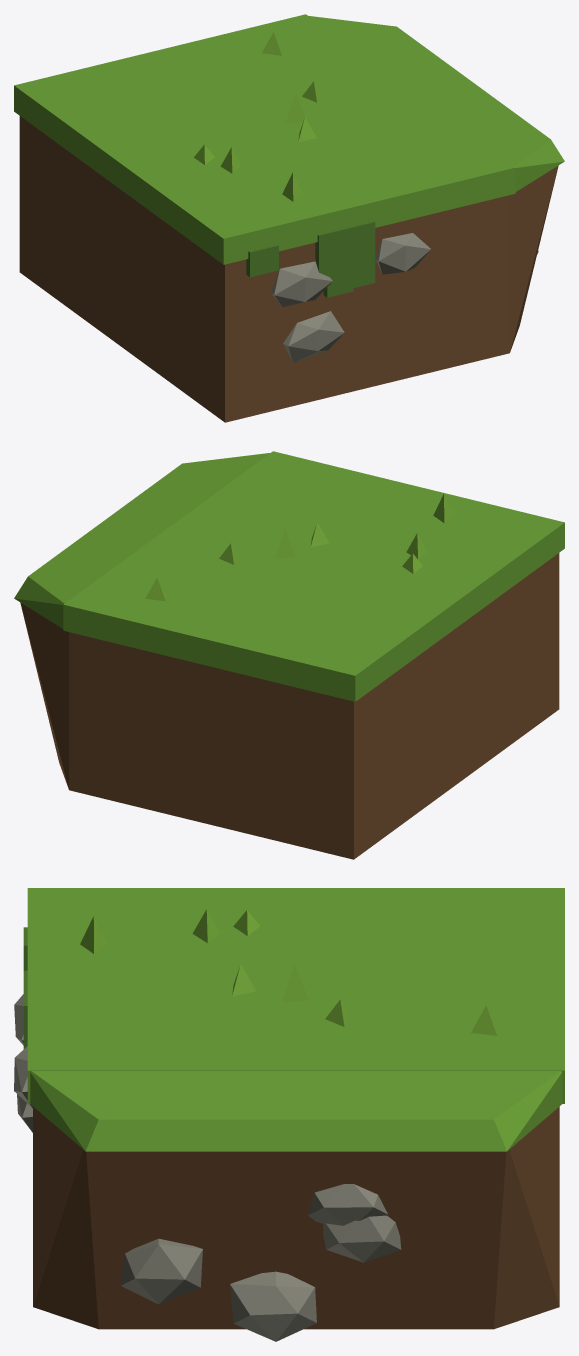
File: ground_end.glb
The picture shows the model from 3 angles, top to bottom: view 1: azimuth 30°, elevation 25°; view 2: azimuth 150°, elevation 25°; view 3: azimuth 270°, elevation 25°; orthographic projection. The views are drawn at different scales.
Parts seen in each view (by area): view 1: grass-col, dirt-col, stone, moss, leaf_light; view 2: grass-col, dirt-col, leaf_light; view 3: grass-col, dirt-col, stone, leaf_light, moss.
Part boxes in pixels (x1,y1,x2,y2): grass-col: (14,14,564,264); dirt-col: (19,116,558,422); stone: (271,233,538,362); moss: (246,221,375,297); leaf_light: (194,32,322,201); grass-col: (14,451,564,701); dirt-col: (20,553,559,859); leaf_light: (145,493,454,601); grass-col: (27,888,564,1151); dirt-col: (33,1106,559,1329); stone: (14,994,401,1341); leaf_light: (80,909,496,1035); moss: (23,927,27,1048).
Size of the model in its own units: 4.09 by 2.29 by 4.18.
